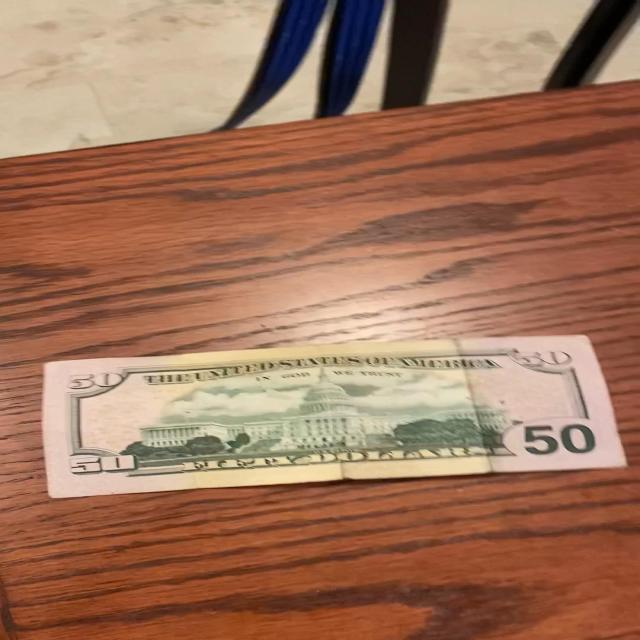50-Back: (38, 328, 627, 504)
